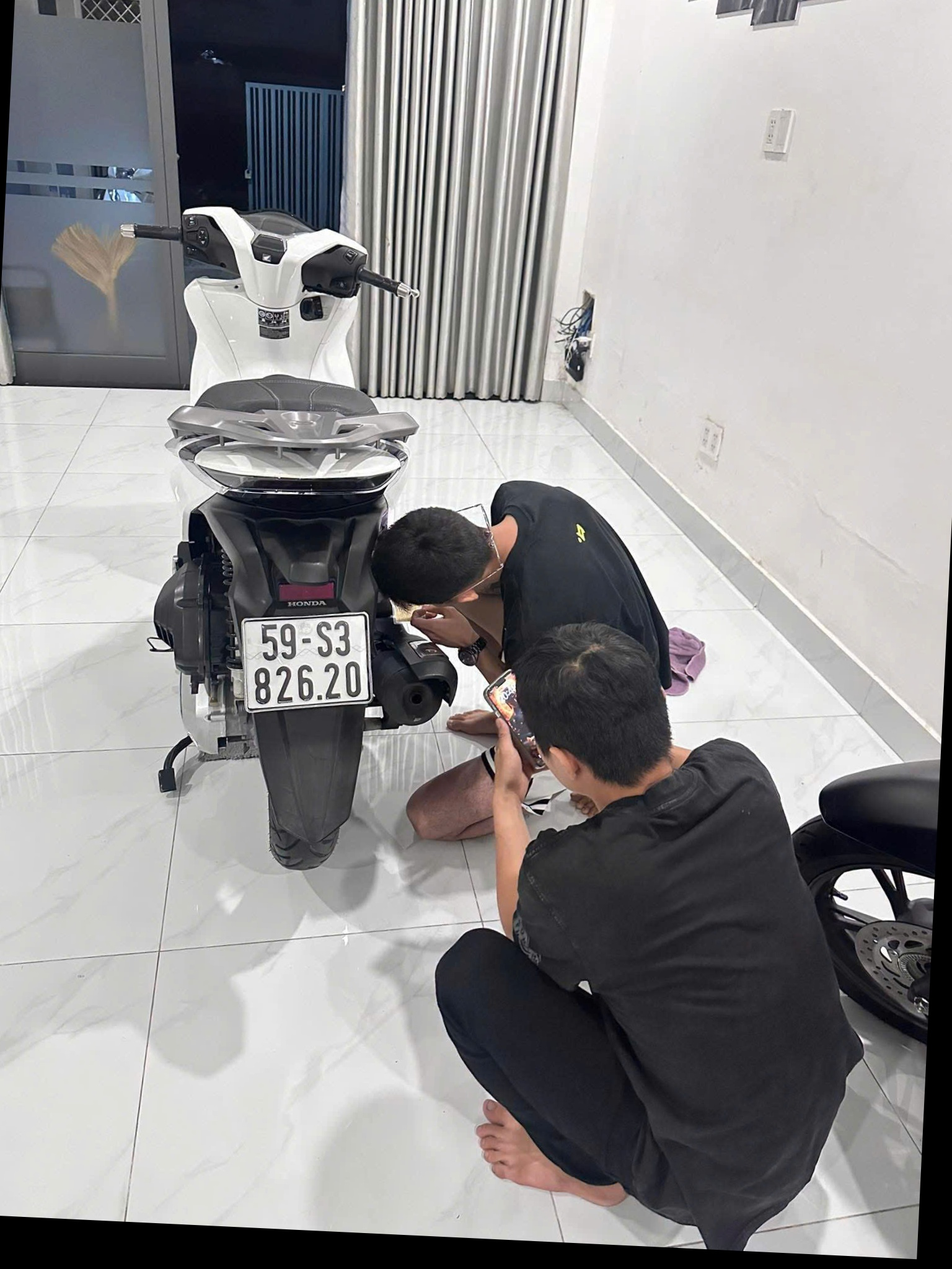Bien-so: (235, 611, 374, 722)
